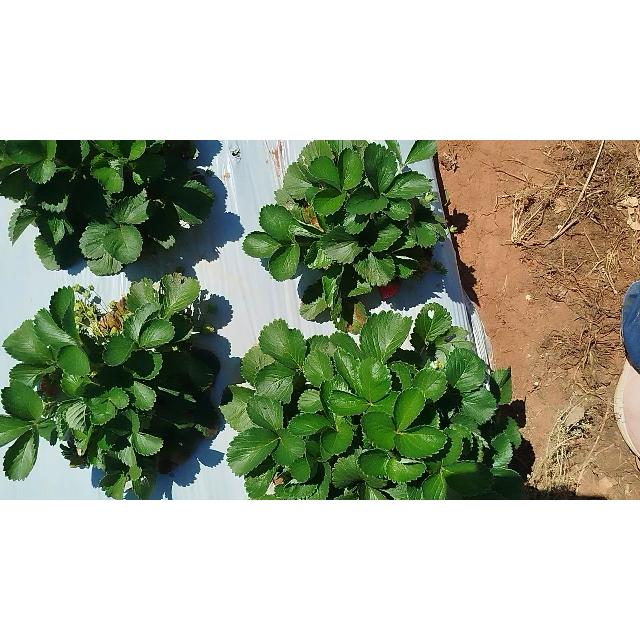maduro: (378, 282, 399, 300)
no-maduro: (199, 323, 217, 335)
